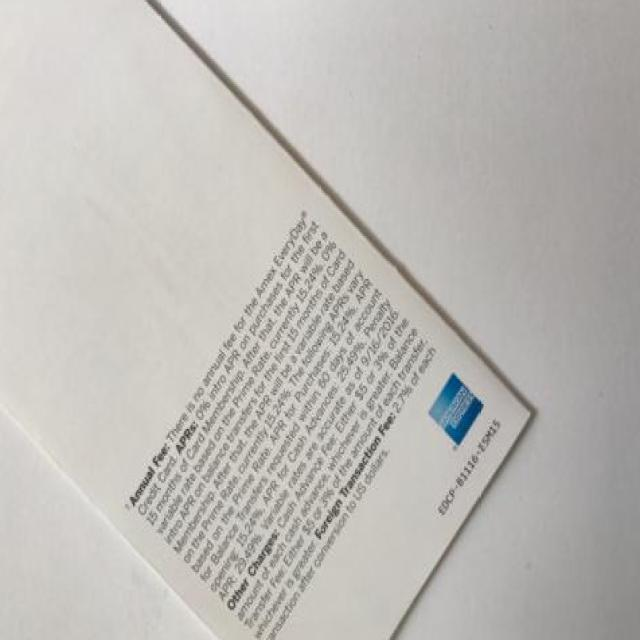kertas: (0, 0, 534, 640)
